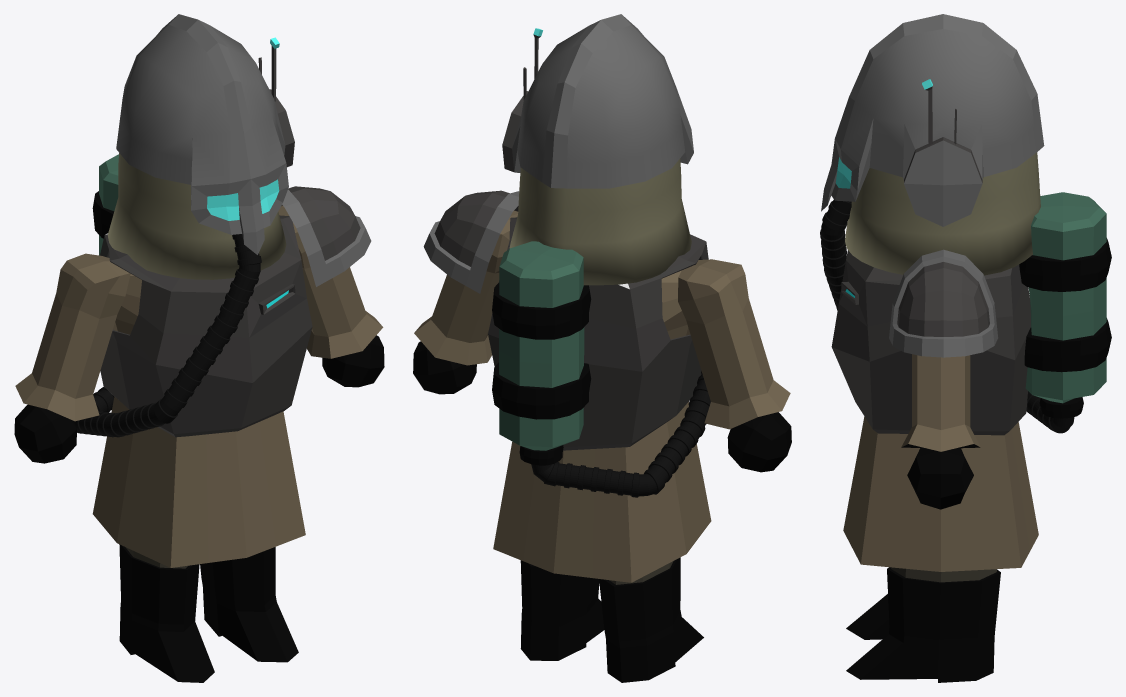
The model's file is Smoothboy2.glb.
3 renders of one model, left to right at view 1: azimuth 30°, elevation 25°; view 2: azimuth 150°, elevation 25°; view 3: azimuth 270°, elevation 25°, orthographic. The views are drawn at different scales.
Visible parts, largest first — view 1: Body, Head, Breastplate, Cloth, HoseBase, Armour Pad, Oxygen Tank, Oxygen Tank Ring; view 2: Body, Head, Breastplate, Cloth, Oxygen Tank, Armour Pad, HoseBase, Oxygen Tank Ring.001, Oxygen Tank Ring, Oxygen Tank Ring.002; view 3: Body, Head, Breastplate, Cloth, Oxygen Tank, Armour Pad, Oxygen Tank Ring, Oxygen Tank Ring.001, HoseBase, Oxygen Tank Ring.002.
Part boxes in pixels (bbox=[...]): Body: bbox=[14, 205, 384, 682]; Head: bbox=[116, 14, 294, 254]; Breastplate: bbox=[100, 215, 312, 437]; Cloth: bbox=[107, 153, 286, 279]; HoseBase: bbox=[74, 234, 261, 437]; Armour Pad: bbox=[281, 186, 371, 286]; Oxygen Tank: bbox=[99, 154, 118, 255]; Oxygen Tank Ring: bbox=[92, 191, 114, 238]; Body: bbox=[413, 210, 791, 682]; Head: bbox=[502, 14, 693, 188]; Breastplate: bbox=[488, 217, 708, 450]; Cloth: bbox=[509, 158, 691, 285]; Oxygen Tank: bbox=[499, 241, 584, 450]; Armour Pad: bbox=[423, 190, 519, 293]; HoseBase: bbox=[531, 371, 710, 497]; Oxygen Tank Ring.001: bbox=[492, 362, 591, 419]; Oxygen Tank Ring: bbox=[492, 282, 591, 339]; Oxygen Tank Ring.002: bbox=[519, 445, 563, 465]; Body: bbox=[843, 354, 1038, 682]; Head: bbox=[821, 14, 1044, 226]; Breastplate: bbox=[831, 250, 1030, 435]; Cloth: bbox=[845, 152, 1040, 275]; Oxygen Tank: bbox=[1025, 192, 1106, 403]; Armour Pad: bbox=[889, 249, 998, 357]; Oxygen Tank Ring: bbox=[1019, 238, 1111, 291]; Oxygen Tank Ring.001: bbox=[1024, 318, 1111, 372]; HoseBase: bbox=[820, 199, 1074, 433]; Oxygen Tank Ring.002: bbox=[1039, 397, 1083, 418].
Size of the model in its own units: 3.57 by 5.85 by 2.43.
